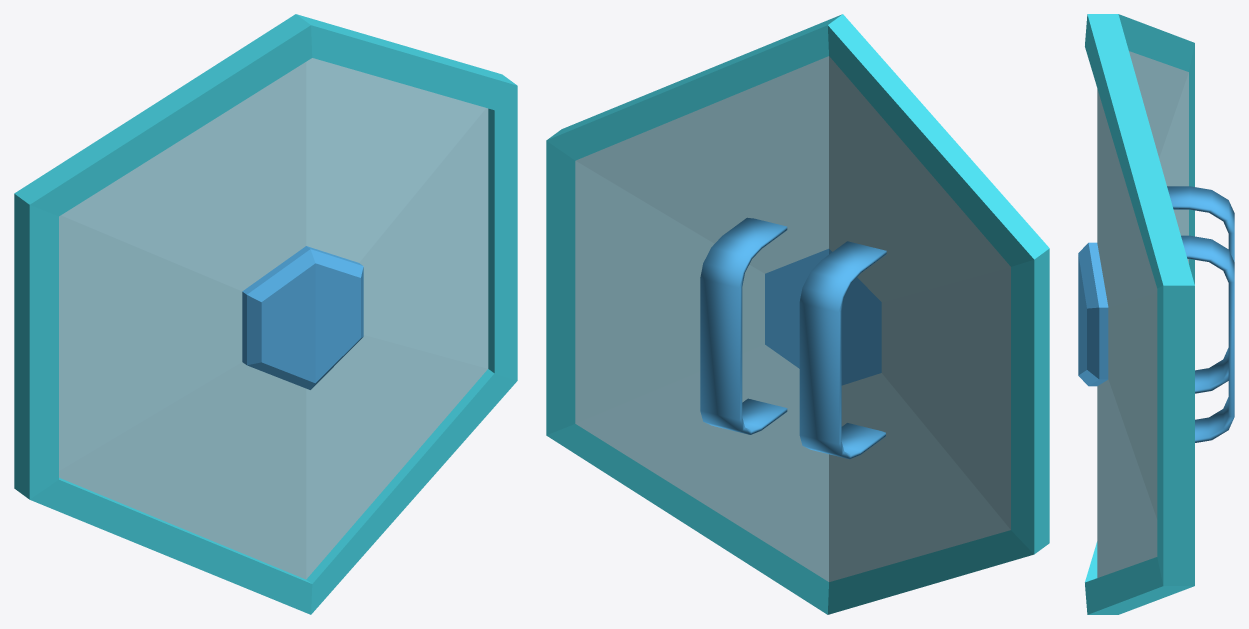
Rendered from Ice Shield.fbx.
3 views of the same model, side by side, from view 1: azimuth 30°, elevation 25°; view 2: azimuth 150°, elevation 25°; view 3: azimuth 270°, elevation 25° (orthographic).
Visible parts, largest first — view 1: Shield; view 2: Shield, Shield Holders; view 3: Shield, Shield Holders.
Boxes of the visible parts, x1,y1,x2,y2 form: Shield: [14, 14, 517, 614]; Shield: [546, 14, 1049, 614]; Shield Holders: [700, 217, 886, 459]; Shield: [1078, 14, 1194, 614]; Shield Holders: [1167, 186, 1234, 442].
Size of the model in its own units: 81.31 by 93.89 by 22.16.
